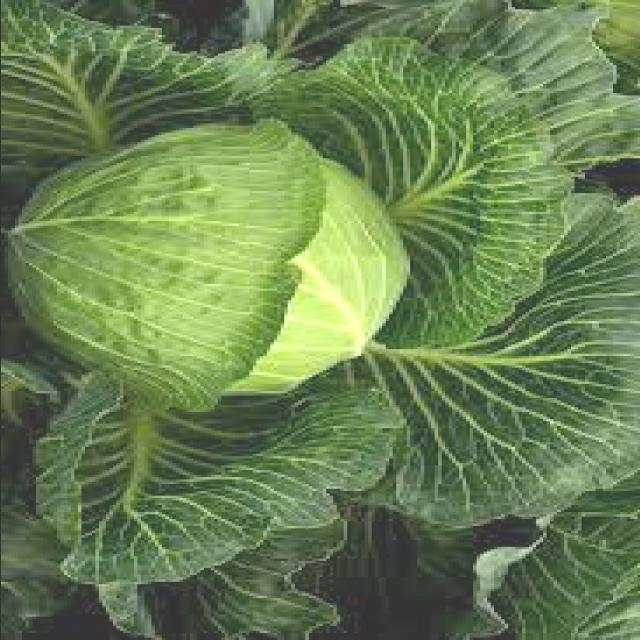Cabbage: (48, 93, 462, 483)
